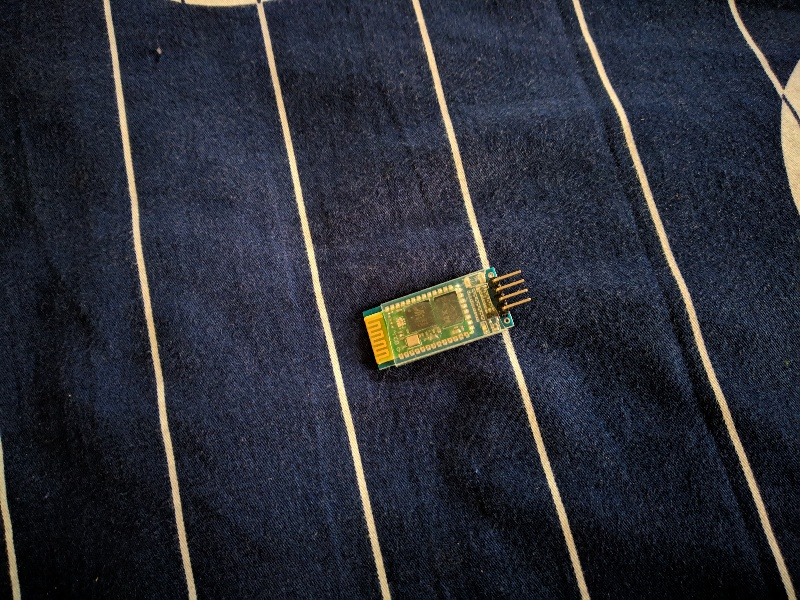HC-05: (356, 261, 522, 372)
